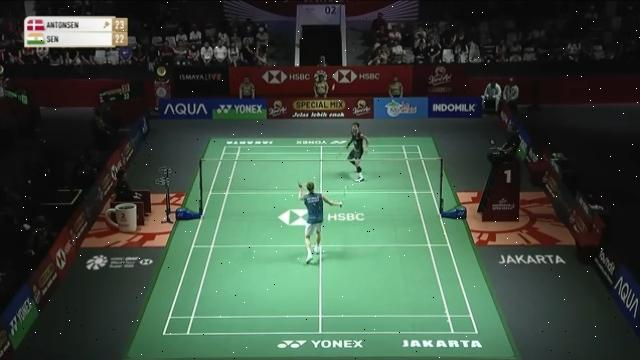Shuttlecock: (328, 80, 339, 92)
